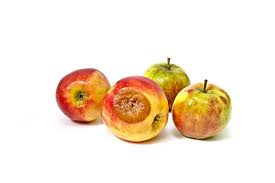damaged_apple: (104, 76, 169, 144), (170, 82, 233, 136), (57, 70, 110, 123), (143, 58, 191, 114)
